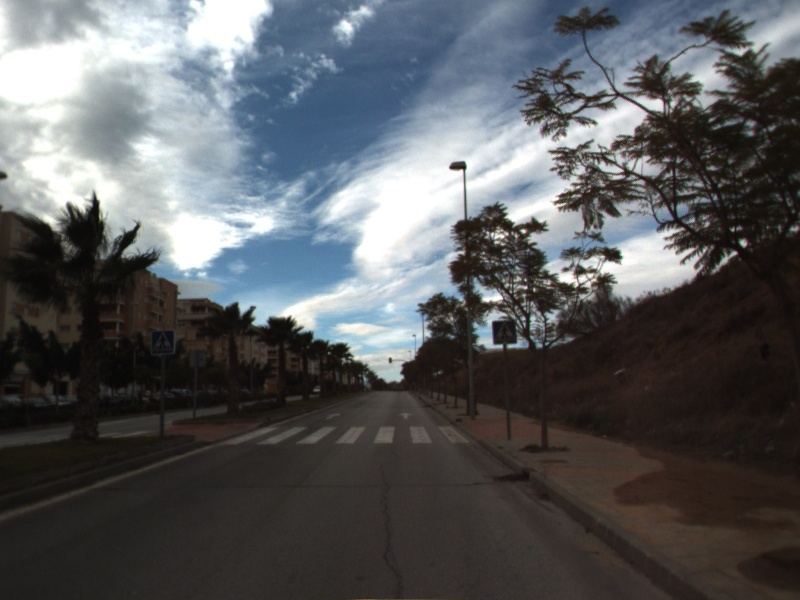STRAIGHT: (323, 410, 343, 421), (397, 410, 415, 421)
